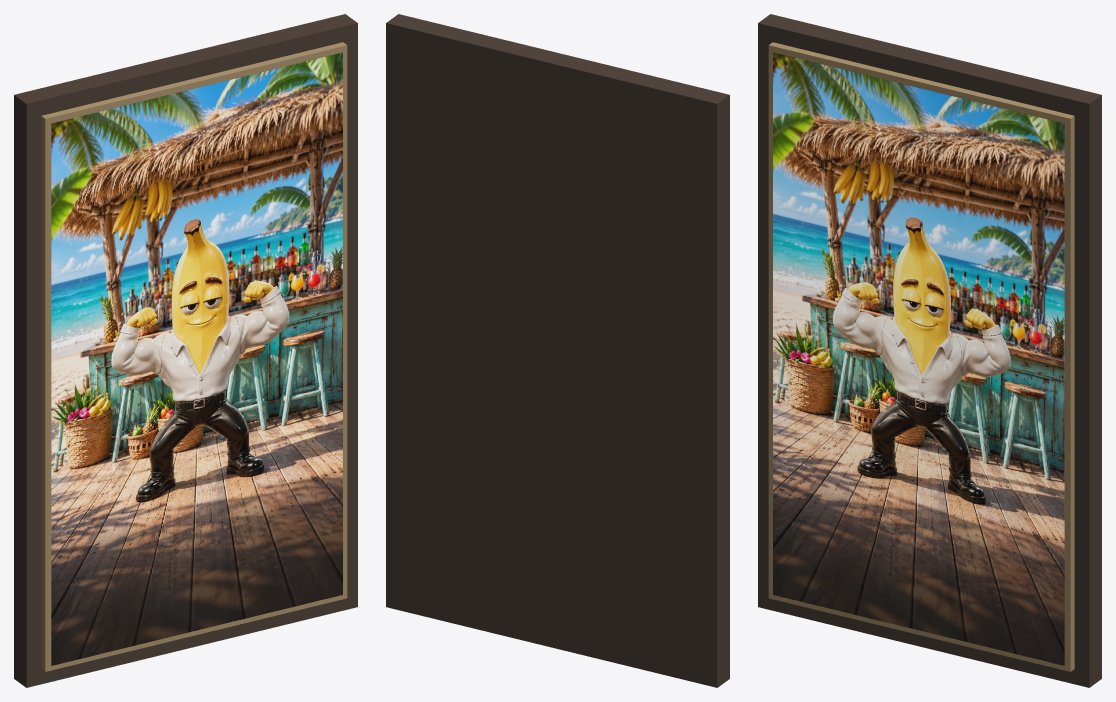
Rendered from painting_bananito.glb.
3 renders of one model, left to right at view 1: azimuth 30°, elevation 25°; view 2: azimuth 150°, elevation 25°; view 3: azimuth 330°, elevation 25°, orthographic.
Visible parts, largest first — view 1: Art, Solid joinery, Solid joinery.001; view 2: Solid joinery; view 3: Art, Solid joinery, Solid joinery.001.
Boxes of the visible parts, x1=… form: Art: x1=51, y1=52, x2=342, y2=665; Solid joinery: x1=14, y1=14, x2=357, y2=687; Solid joinery.001: x1=41, y1=42, x2=347, y2=671; Solid joinery: x1=386, y1=14, x2=729, y2=687; Art: x1=773, y1=52, x2=1064, y2=665; Solid joinery: x1=758, y1=14, x2=1101, y2=687; Solid joinery.001: x1=768, y1=42, x2=1074, y2=671.
Size of the model in its own units: 0.4602 by 0.775 by 0.042.
3 materials, 1 textured.
